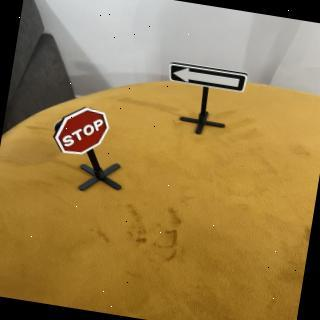sign_oneway_left: (167, 60, 251, 97)
sign_stop: (51, 101, 115, 162)
